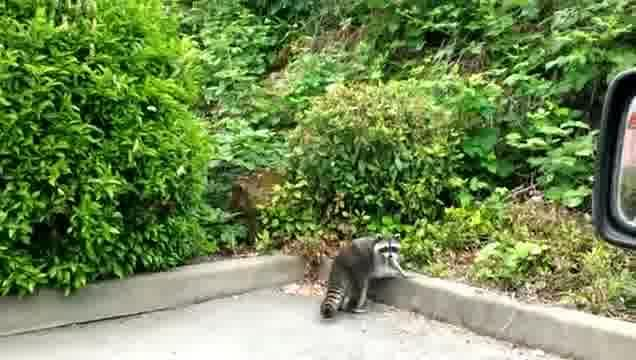raccoon: (322, 232, 412, 319)
